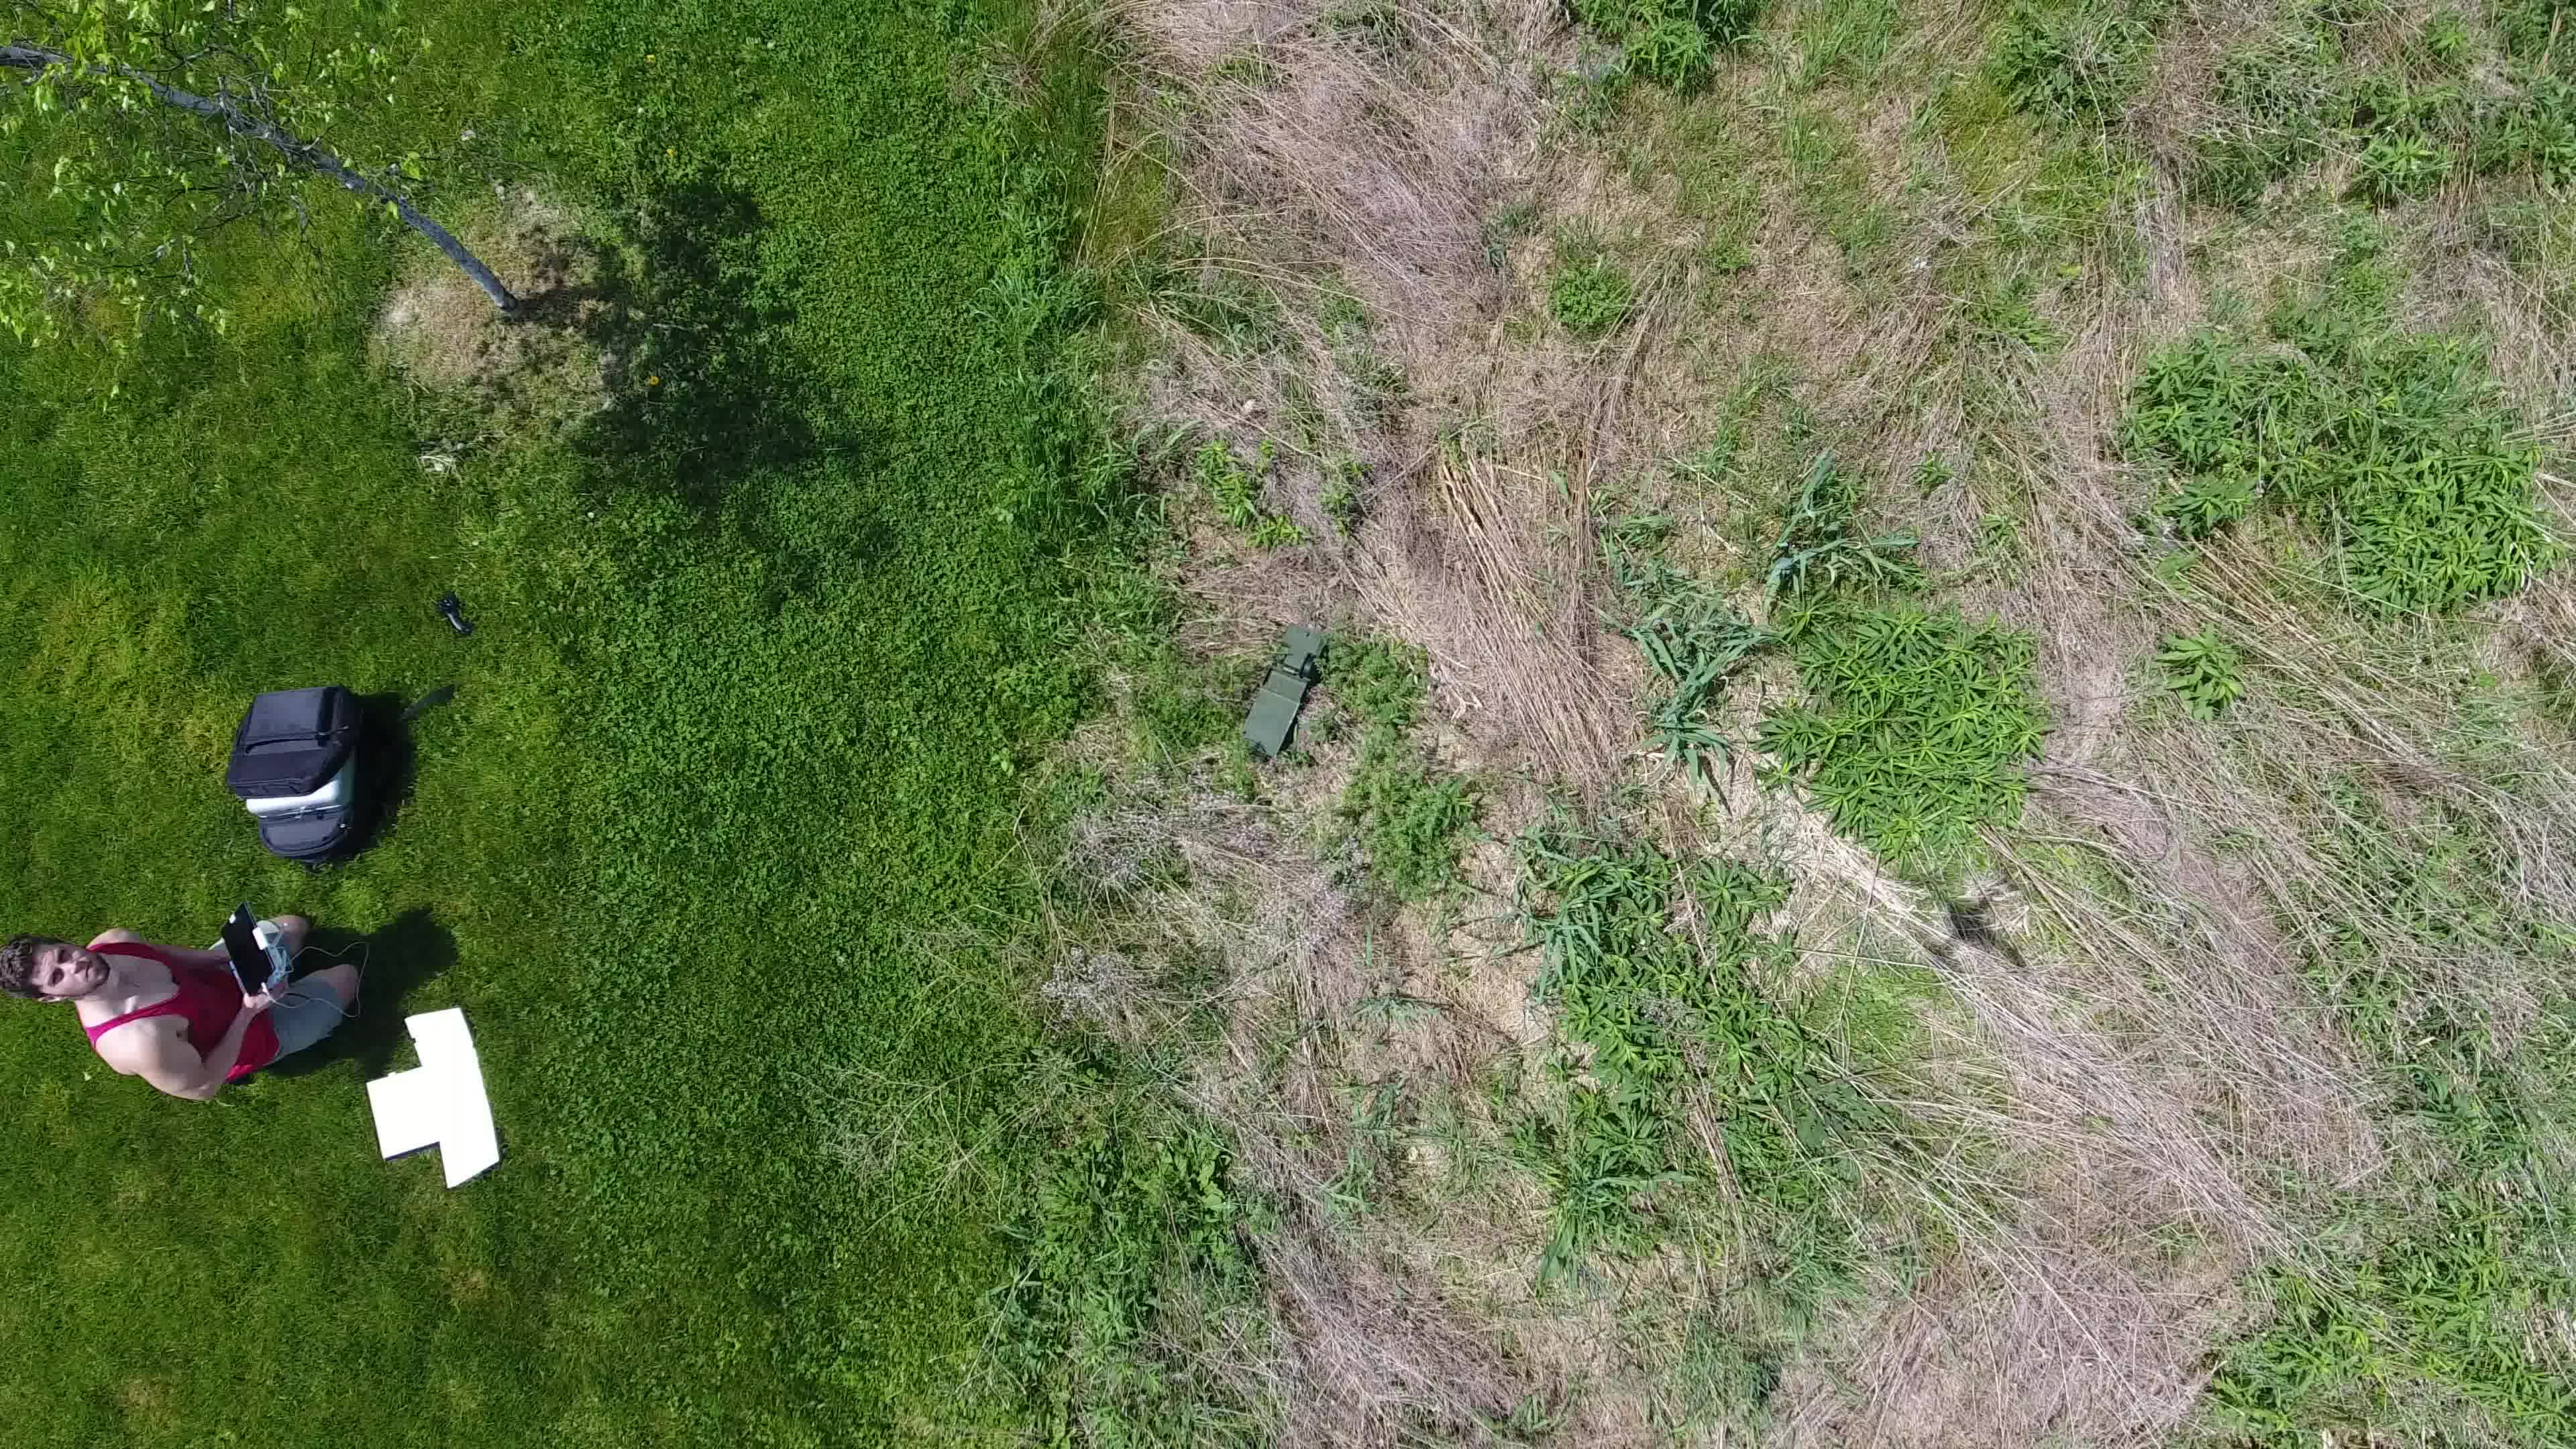transporter9: (1235, 619, 1332, 763)
